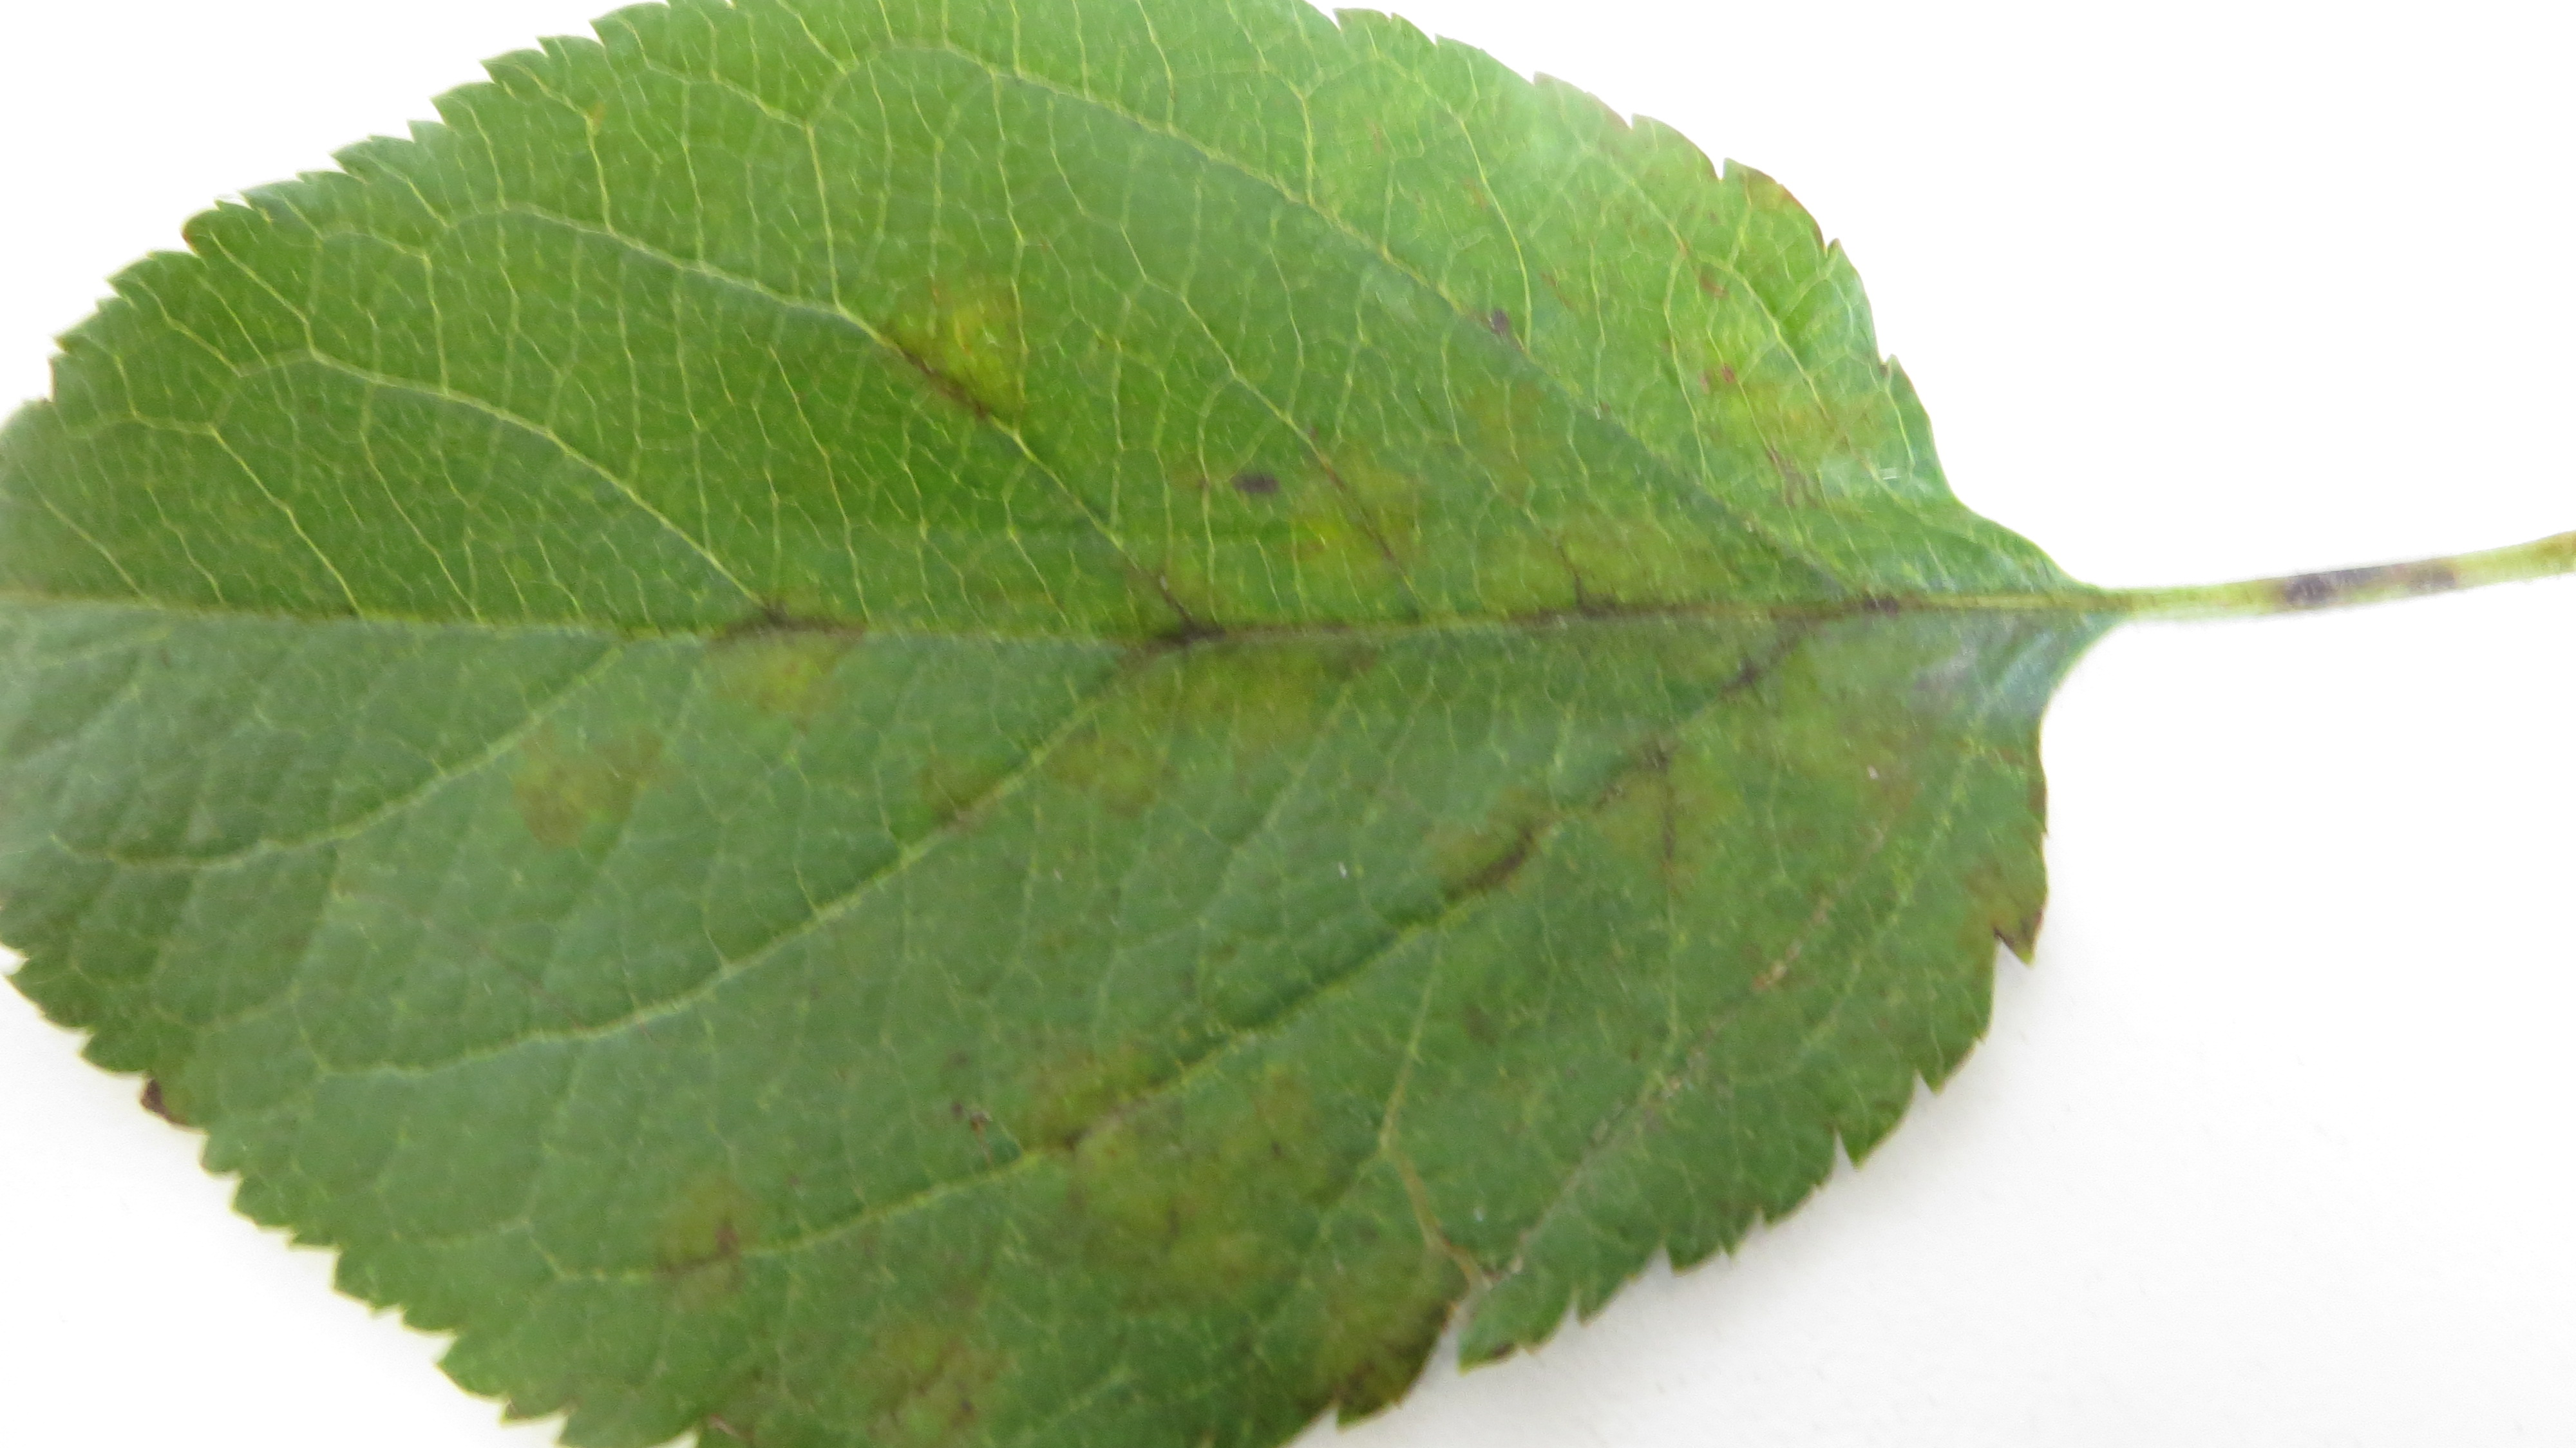sarna: (1721, 648, 1944, 832), (1481, 508, 1750, 644), (1047, 1172, 1260, 1319), (876, 260, 1047, 432), (637, 1147, 780, 1336), (697, 568, 858, 736), (1307, 1252, 1451, 1432), (1097, 538, 1242, 706), (849, 1298, 1010, 1448), (1583, 722, 1725, 892), (510, 719, 695, 848), (1407, 779, 1573, 917), (991, 1027, 1154, 1167), (1295, 432, 1424, 602), (1217, 612, 1327, 784), (1732, 867, 1856, 998), (1042, 706, 1168, 832), (1442, 356, 1557, 492), (1440, 958, 1566, 1082), (1755, 556, 1925, 646), (1217, 1048, 1329, 1175), (1737, 402, 1849, 522), (1936, 850, 2042, 975), (892, 736, 1010, 844), (1794, 352, 1893, 448), (1194, 458, 1302, 535), (1454, 269, 1545, 358), (1677, 349, 1798, 414), (681, 1365, 784, 1439), (1675, 251, 1752, 326)
